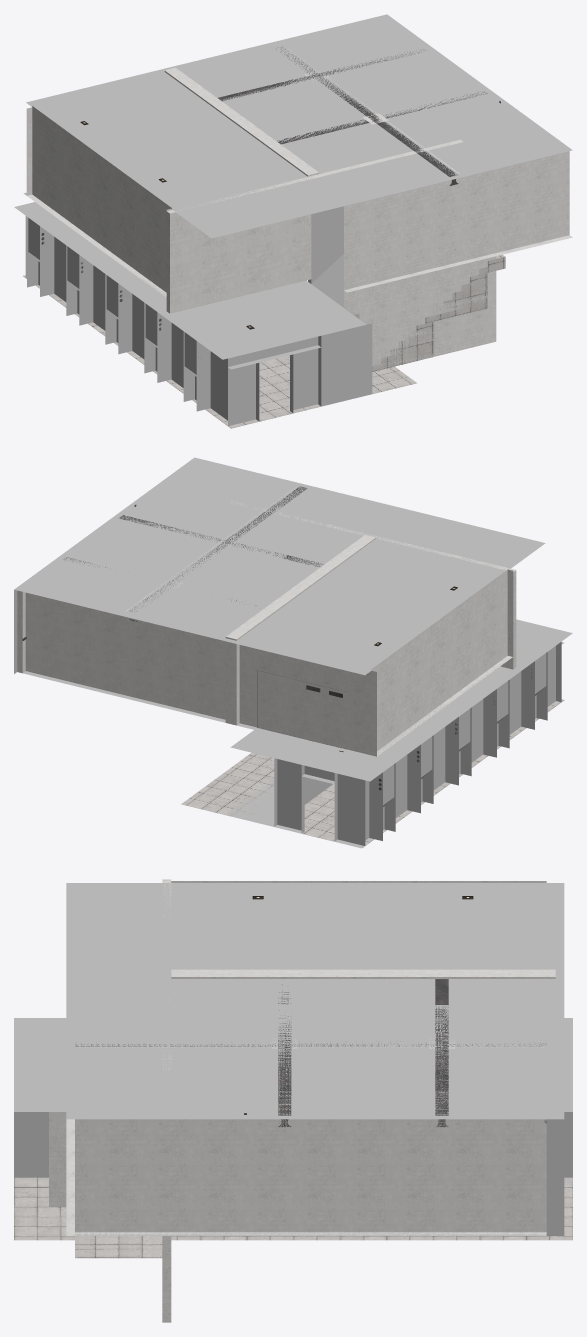
The model's file is LC_room2_sl.gltf.
3 renders of one model, top to bottom at view 1: azimuth 30°, elevation 25°; view 2: azimuth 150°, elevation 25°; view 3: azimuth 270°, elevation 25°, orthographic. The views are drawn at different scales.
Parts seen in each view (by area): view 1: LC_room2_sl; view 2: LC_room2_sl; view 3: LC_room2_sl.
Boxes of the visible parts, x1,y1,x2,y2 form: LC_room2_sl: (14, 14, 572, 428); LC_room2_sl: (14, 457, 572, 848); LC_room2_sl: (14, 879, 572, 1322).
Bounding box in the file's own units: 20.96 × 10.24 × 20.48.
